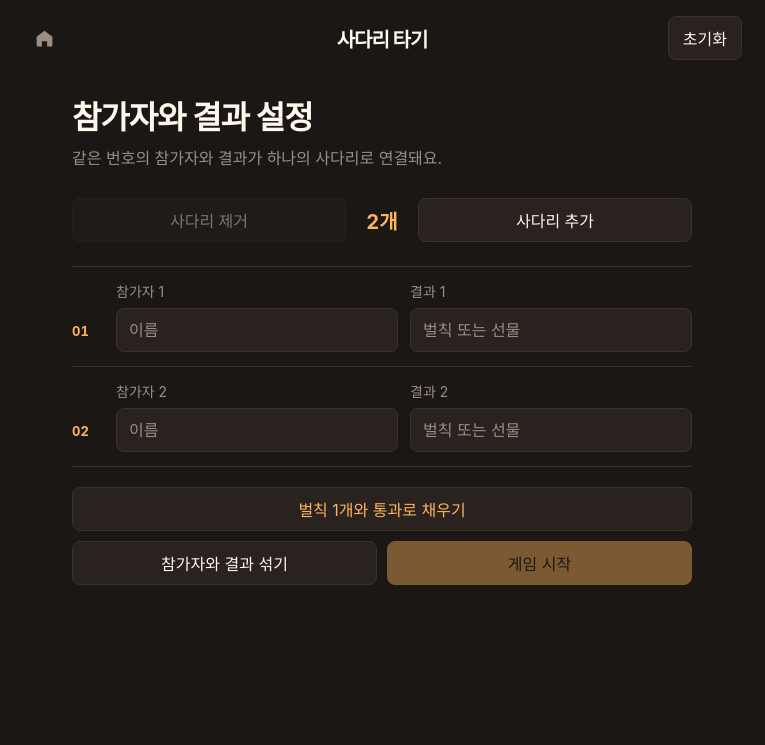
Test: LadderPage › 같은 설정으로 다시 하면 이름과 결과를 유지한 새 사다리를 시작한다
Type "짱구" into the field labelled "참가자 1" at (257, 330), box [116,308,398,352]
Type "철수" into the field labelled "참가자 2" at (257, 430), box [116,408,398,452]
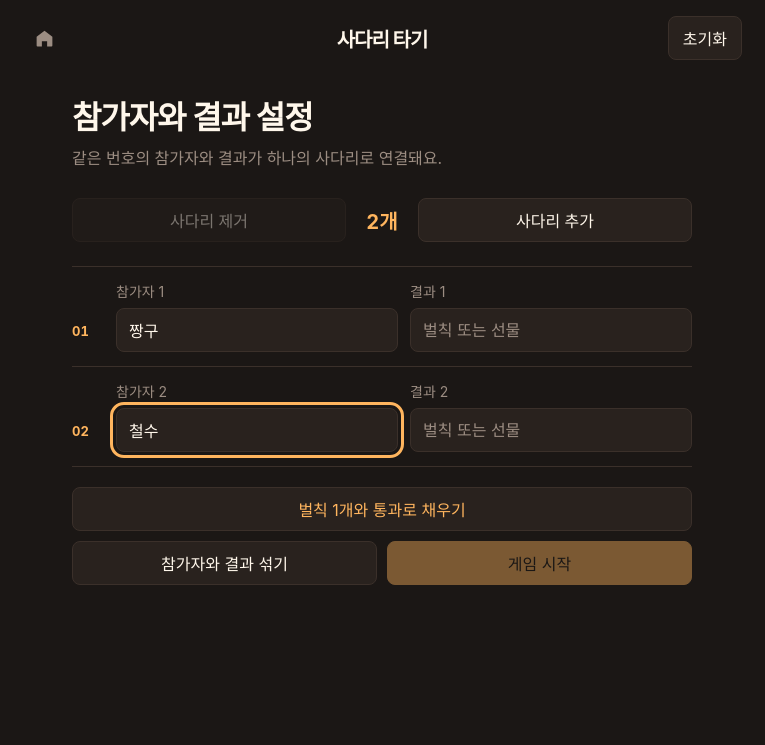
Type "통과" into the field labelled "결과 1" at (551, 330), box [410,308,692,352]
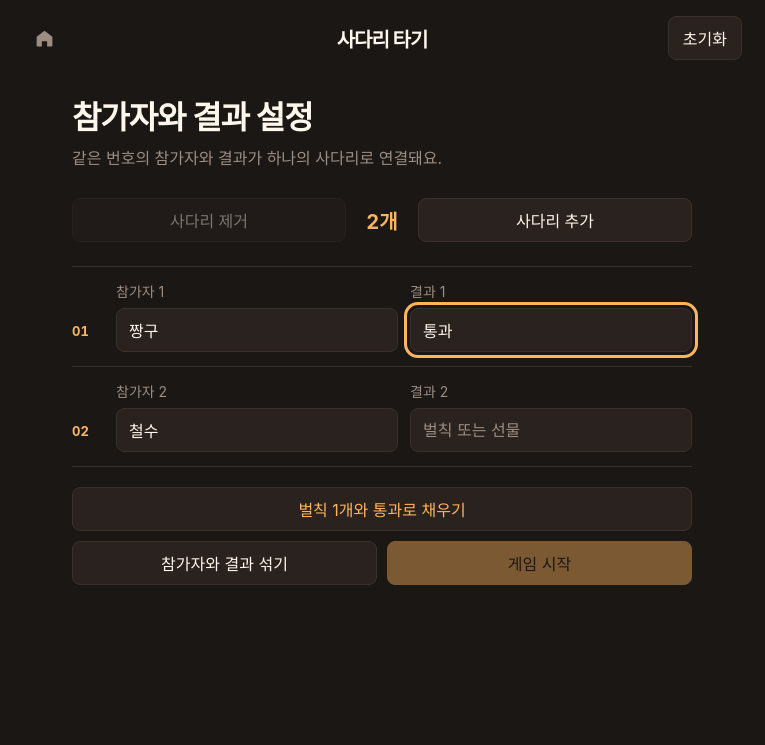
Type "벌칙" into the field labelled "결과 2" at (551, 430), box [410,408,692,452]
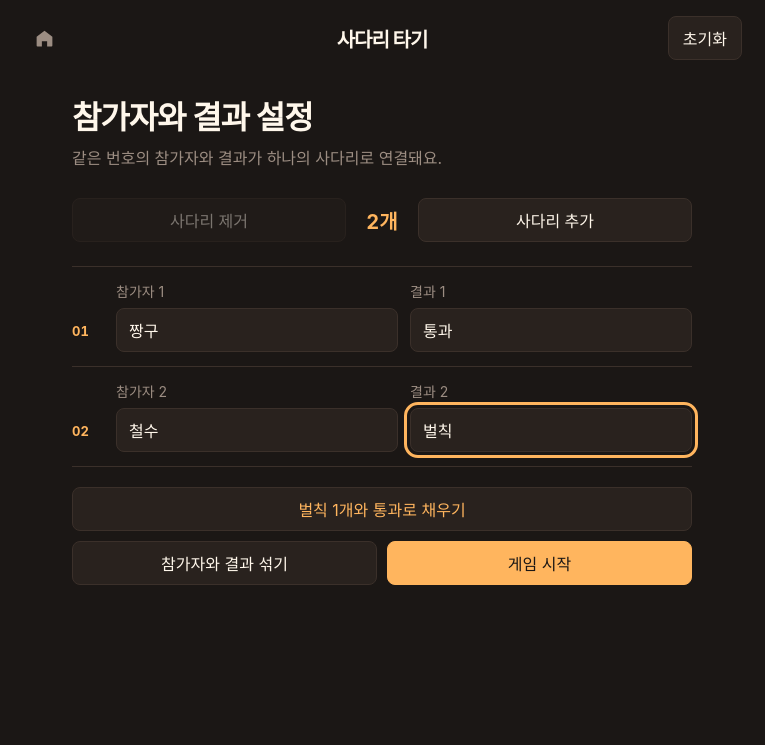
Click the button "게임 시작" at (540, 563), box [387,541,692,585]
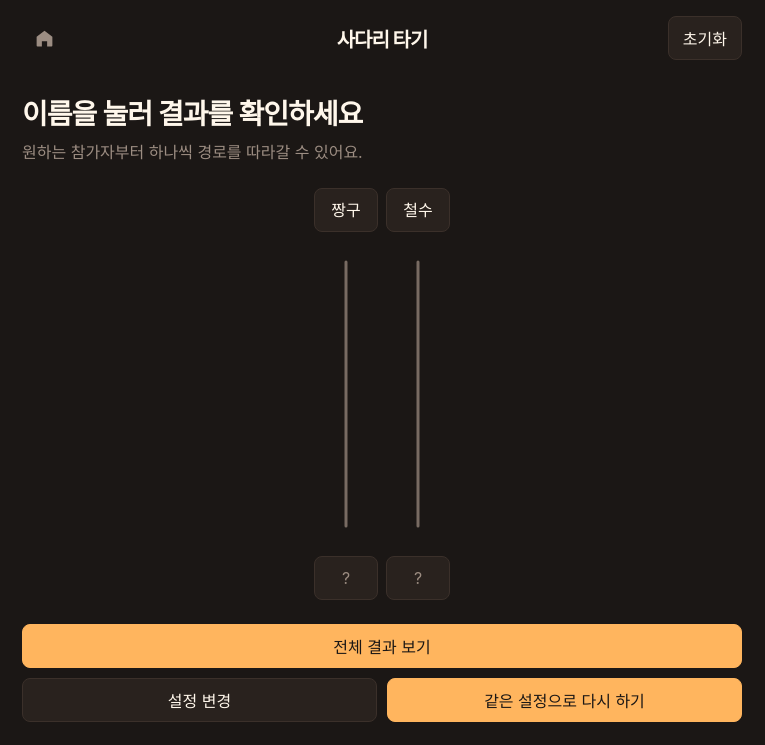
Click the button "전체 결과 보기" at (382, 646), box [22,624,742,668]
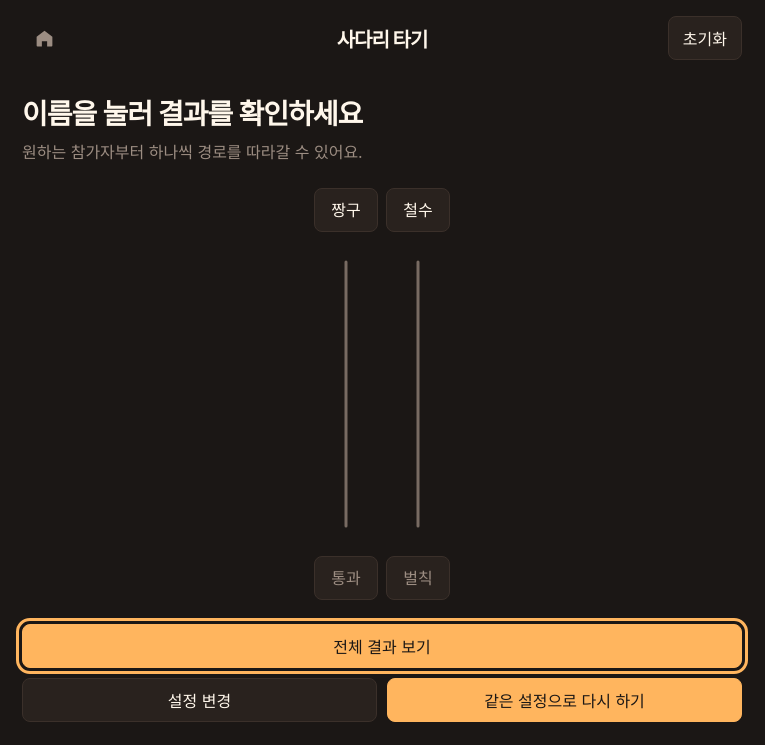
Click the button "같은 설정으로 다시 하기" at (564, 700), box [387,678,742,722]
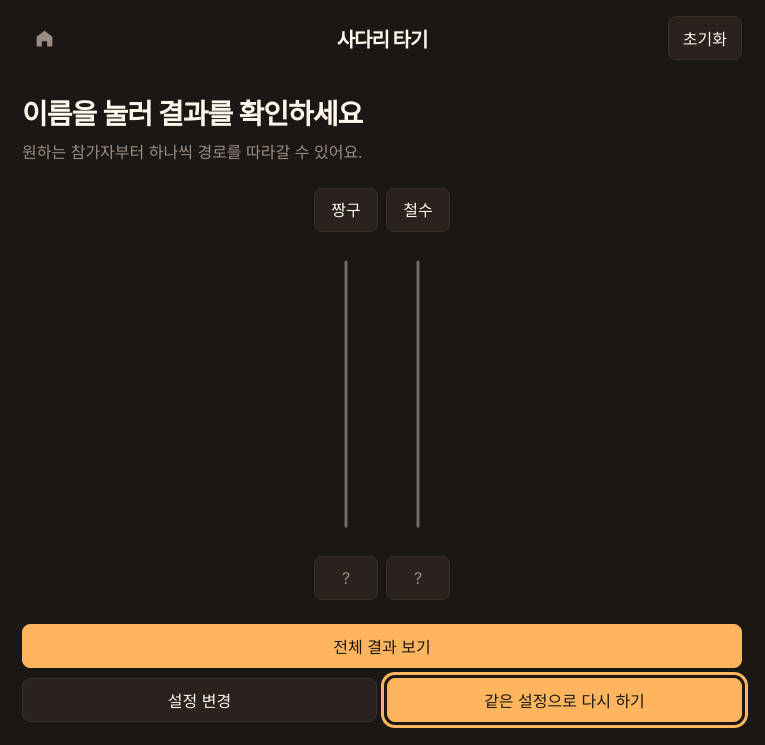
Check: the button "통과" is gone
